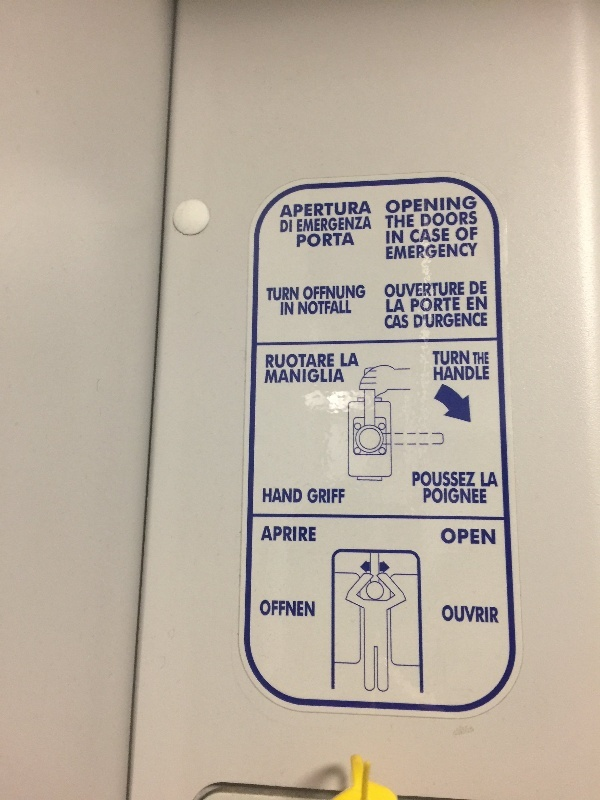text: (481, 472, 496, 494), (449, 605, 464, 625), (465, 605, 480, 625), (481, 605, 496, 625), (449, 528, 464, 547), (465, 528, 480, 547), (481, 528, 496, 547), (401, 241, 416, 260), (417, 241, 432, 260), (433, 241, 448, 260), (449, 241, 464, 260), (273, 526, 288, 544), (289, 526, 304, 544), (433, 488, 448, 506), (449, 488, 464, 506), (465, 488, 480, 506), (289, 200, 304, 218), (305, 200, 320, 218), (321, 200, 336, 218), (337, 200, 352, 218), (353, 200, 368, 218), (449, 281, 465, 297), (321, 489, 336, 506), (273, 489, 288, 506), (417, 472, 432, 489), (433, 472, 448, 489), (449, 472, 464, 489), (449, 364, 464, 381), (465, 364, 480, 381), (433, 311, 448, 328), (449, 311, 464, 328), (465, 311, 480, 328), (305, 216, 320, 233), (321, 216, 336, 233), (337, 216, 352, 233), (353, 216, 368, 233), (387, 241, 400, 260), (465, 241, 478, 260), (401, 281, 416, 297), (417, 281, 432, 297), (433, 281, 448, 297), (433, 211, 448, 227), (449, 211, 464, 227), (401, 197, 416, 213), (417, 197, 432, 213), (433, 197, 448, 213), (449, 197, 464, 213), (273, 369, 288, 385), (289, 369, 304, 385), (305, 369, 320, 385), (321, 369, 336, 385), (273, 353, 288, 369), (289, 353, 304, 369), (305, 353, 320, 369), (305, 300, 320, 316), (321, 300, 336, 316), (337, 300, 352, 316), (289, 489, 303, 506), (434, 364, 448, 381), (449, 350, 464, 365), (417, 297, 432, 312), (433, 297, 448, 312), (305, 285, 320, 300), (321, 285, 336, 300), (337, 285, 352, 300), (305, 233, 320, 248), (321, 233, 336, 248), (337, 233, 352, 248), (386, 315, 400, 331), (386, 281, 400, 297), (386, 214, 400, 230), (321, 353, 335, 369), (305, 526, 317, 544), (273, 603, 288, 617), (289, 603, 304, 617), (434, 350, 448, 365), (465, 225, 478, 241), (387, 228, 400, 244), (401, 214, 414, 230), (387, 197, 400, 213), (308, 489, 320, 506), (467, 297, 480, 312), (387, 298, 400, 313), (353, 285, 366, 300), (273, 288, 288, 301), (465, 211, 477, 227), (465, 197, 477, 213), (449, 297, 461, 312), (421, 211, 432, 227), (465, 472, 475, 489), (261, 603, 272, 617), (337, 489, 346, 506), (481, 364, 490, 381), (341, 354, 352, 367), (305, 603, 315, 617), (470, 280, 480, 294), (264, 489, 272, 506), (289, 288, 299, 301), (401, 315, 409, 331), (425, 488, 432, 506), (481, 311, 488, 328), (297, 216, 304, 233), (442, 528, 448, 547), (481, 352, 489, 366), (457, 225, 464, 241), (337, 369, 344, 385), (266, 526, 272, 544), (481, 488, 487, 506), (481, 297, 488, 312), (297, 233, 304, 248), (426, 311, 432, 328), (443, 605, 448, 625), (473, 352, 480, 366), (281, 301, 288, 315), (266, 369, 272, 385), (266, 353, 272, 369), (298, 300, 304, 316), (417, 315, 423, 330), (481, 280, 487, 294), (281, 220, 288, 232), (353, 354, 359, 367), (465, 350, 470, 365), (411, 297, 416, 312), (289, 301, 294, 315), (497, 472, 500, 494), (267, 288, 272, 301), (497, 605, 500, 625), (401, 298, 405, 313), (285, 200, 288, 218), (369, 200, 372, 218), (413, 472, 416, 489), (369, 216, 372, 233), (401, 228, 404, 244), (289, 220, 292, 232), (414, 315, 416, 330), (353, 233, 355, 248), (497, 528, 498, 547)
